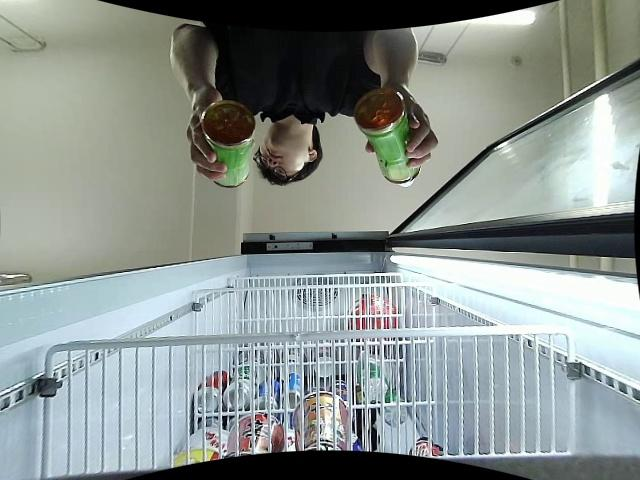00_hand: (364, 87, 438, 169), (187, 87, 230, 183)
19_17cha: (354, 92, 420, 187), (202, 99, 258, 192)
